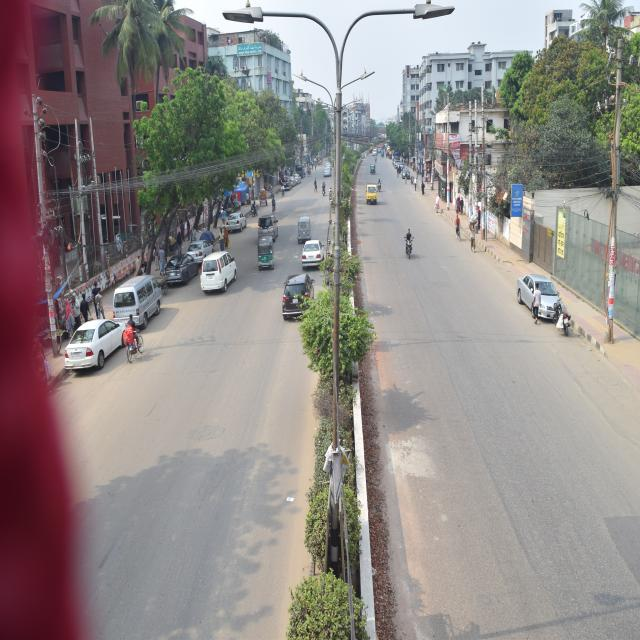car: (63, 318, 133, 360), (518, 271, 564, 321), (167, 252, 201, 289), (300, 237, 324, 274), (193, 228, 210, 262), (230, 205, 248, 237), (324, 166, 332, 180), (282, 175, 298, 177), (289, 184, 292, 190)
microbus: (110, 268, 158, 317), (201, 250, 240, 300)
motorbike: (552, 300, 572, 336), (405, 230, 418, 262)
truck: (366, 187, 381, 208)
